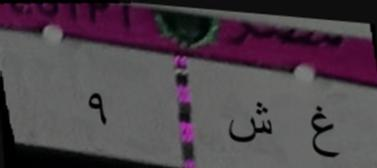9: (78, 88, 120, 130)
ghayn: (302, 103, 348, 167)
sheen: (225, 96, 276, 156)
